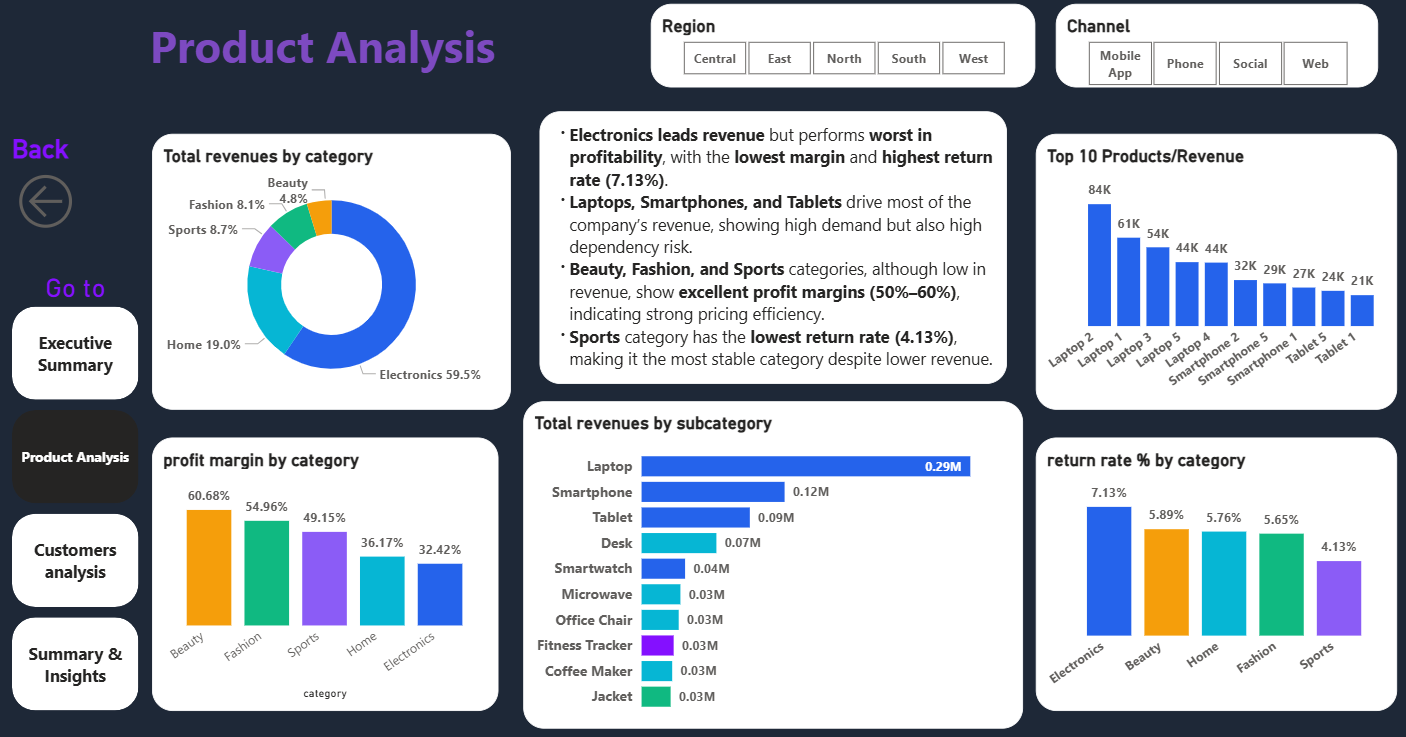

What the dashboard file says about the page in this screenshot:
{"tool":"powerbi","page":{"name":"Product Analysis","canvas":[1364,720],"ordinal":1},"visuals":[{"type":"donutChart","fields":{"Category":["Product cleaned.category"],"Y":["Measures_table.Total revenues"]},"box":[149.6,133.9,346.2,266.6],"z":0},{"type":"clusteredBarChart","fields":{"Category":["Product cleaned.subcategory"],"Y":["Measures_table.Total revenues"]},"box":[507.9,392.1,482.6,316.1],"z":1000},{"type":"clusteredColumnChart","title":"Top 10 Products/Revenue","fields":{"Category":["Product cleaned.product_name"],"Y":["Measures_table.Total revenues"]},"box":[1002.6,133.9,348.7,266.6],"z":2000},{"type":"clusteredColumnChart","fields":{"Category":["Product cleaned.category"],"Y":["Measures_table.profit margin"]},"box":[149.6,427.1,334.2,264.2],"z":3000},{"type":"clusteredColumnChart","fields":{"Y":["Measures_table.return rate %"],"Category":["Product cleaned.category"]},"box":[1002.6,427.1,348.7,264.2],"z":4000},{"type":"textbox","box":[14.5,8.4,599.6,89.3],"z":5000},{"type":"slicer","title":"Region","fields":{"Values":["Customers cleaned.region"]},"box":[631,8.4,371.6,80.8],"z":6000},{"type":"slicer","title":"Channel","fields":{"Values":["Order cleaned.channel"]},"box":[1022.3,8.7,311,80.5],"z":7000},{"type":"textbox","box":[523.6,112.2,451.2,263],"z":8000},{"type":"actionButton","title":"Back","box":[14.9,133.8,122.7,97.9],"z":9000},{"type":"pageNavigator","title":"Go to ","box":[14.9,267.6,122.7,423.8],"z":10000}]}

Visuals, with their boxes in screenshot pixels (x1, y1, x2, y2), scaled from the page's 1364x720 canvas onto the 1406x737 screenshot:
donutChart - Product cleaned.category x Measures_table.Total revenues: <region>154, 137, 511, 410</region>
clusteredBarChart - Product cleaned.subcategory x Measures_table.Total revenues: <region>524, 401, 1021, 725</region>
"Top 10 Products/Revenue" clusteredColumnChart: <region>1033, 137, 1393, 410</region>
clusteredColumnChart - Product cleaned.category x Measures_table.profit margin: <region>154, 437, 499, 708</region>
clusteredColumnChart - Measures_table.return rate % x Product cleaned.category: <region>1033, 437, 1393, 708</region>
textbox: <region>15, 9, 633, 100</region>
"Region" slicer: <region>650, 9, 1033, 91</region>
"Channel" slicer: <region>1054, 9, 1374, 91</region>
textbox: <region>540, 115, 1005, 384</region>
"Back" actionButton: <region>15, 137, 142, 237</region>
"Go to " pageNavigator: <region>15, 274, 142, 708</region>
